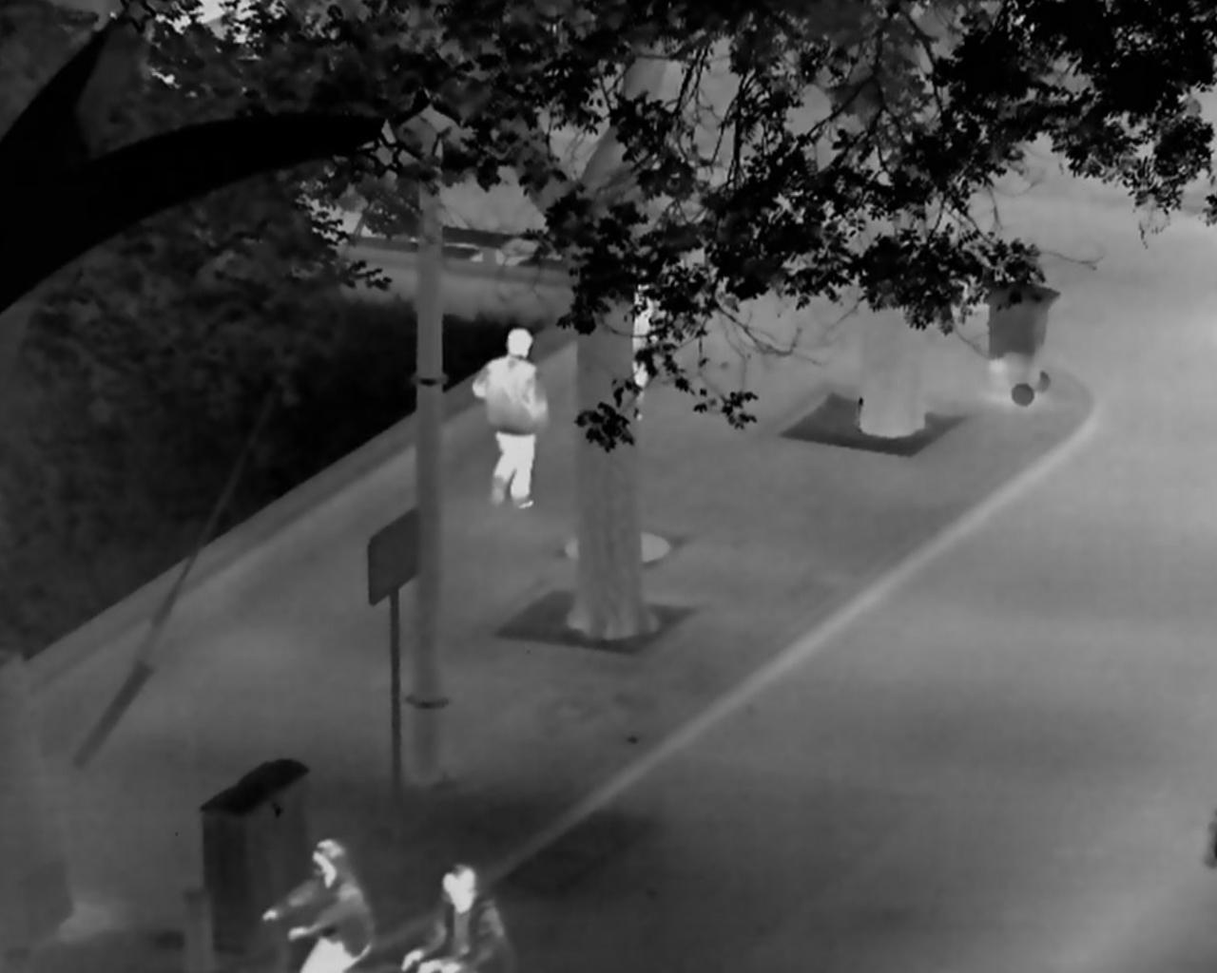person: (260, 838, 377, 973), (472, 326, 551, 507), (401, 862, 519, 973), (633, 270, 658, 421)
